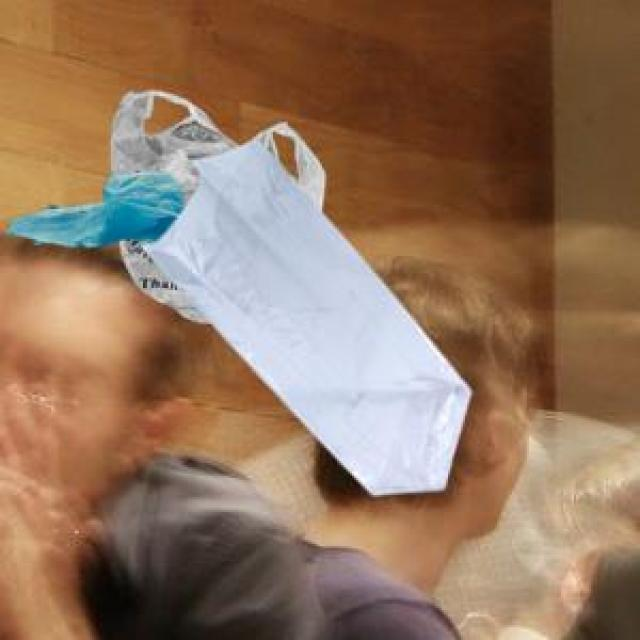plastic: (8, 61, 509, 529)
